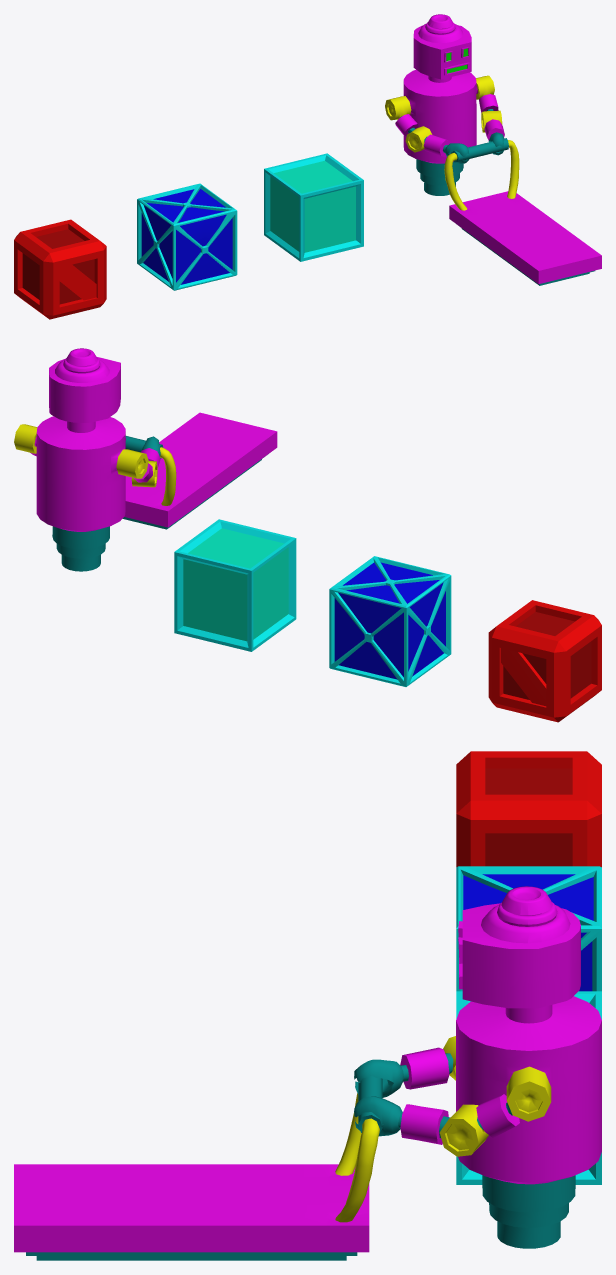
The model's file is Boxes and suchFBX.fbx.
3 views of the same model, one above another, from view 1: azimuth 30°, elevation 25°; view 2: azimuth 150°, elevation 25°; view 3: azimuth 270°, elevation 25° (orthographic). The views are drawn at different scales.
Parts seen in each view (by area): view 1: robot2, cart, big_crystal_box, steel_box6, wooden_box; view 2: robot2, big_crystal_box, steel_box6, wooden_box, cart; view 3: robot2, cart, wooden_box, steel_box6, big_crystal_box.
Part boxes in pixels (x1,y1,x2,y2): robot2: (385, 14, 504, 195); cart: (444, 138, 601, 285); big_crystal_box: (264, 153, 363, 261); steel_box6: (137, 183, 237, 290); wooden_box: (14, 219, 106, 319); robot2: (14, 348, 160, 571); big_crystal_box: (174, 519, 296, 651); steel_box6: (329, 556, 451, 686); wooden_box: (488, 600, 601, 722); cart: (122, 412, 277, 529); robot2: (354, 886, 601, 1248); cart: (14, 1076, 382, 1260); wooden_box: (456, 751, 601, 867); steel_box6: (456, 866, 601, 991); big_crystal_box: (456, 991, 601, 1184).
Bounding box in the file's own units: 7.28 × 2.9 × 4.04.
